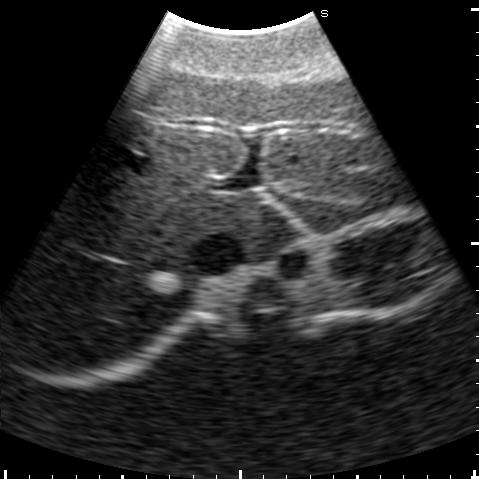IVC: (186, 235, 242, 278)
S1: (232, 194, 301, 264)
S2: (264, 182, 419, 234)
S3: (246, 75, 407, 198)
